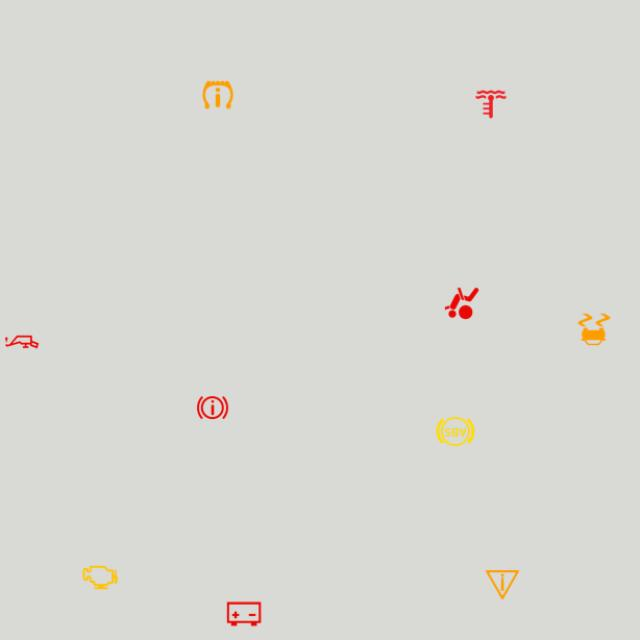Anti Lock Braking System: (435, 411, 476, 452)
Braking System Issue: (192, 387, 233, 428)
Charging System Issue: (223, 593, 265, 635)
Check Engine: (79, 557, 121, 598)
Electronic Stability Problem -ESP-: (573, 309, 615, 350)
Engine Overheating Warning Light: (470, 83, 512, 125)
Low Engine Oil Warning Light: (1, 321, 43, 363)
Low Tire Pressure Warning Light: (197, 74, 239, 116)
Master warning light: (482, 564, 523, 606)
SRS-Airbag: (441, 283, 483, 324)
